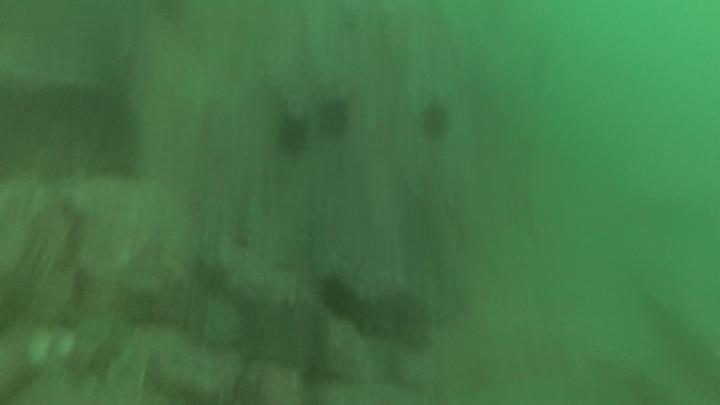echinus: (272, 114, 313, 163), (315, 94, 354, 144), (418, 94, 453, 146), (317, 275, 355, 319)
